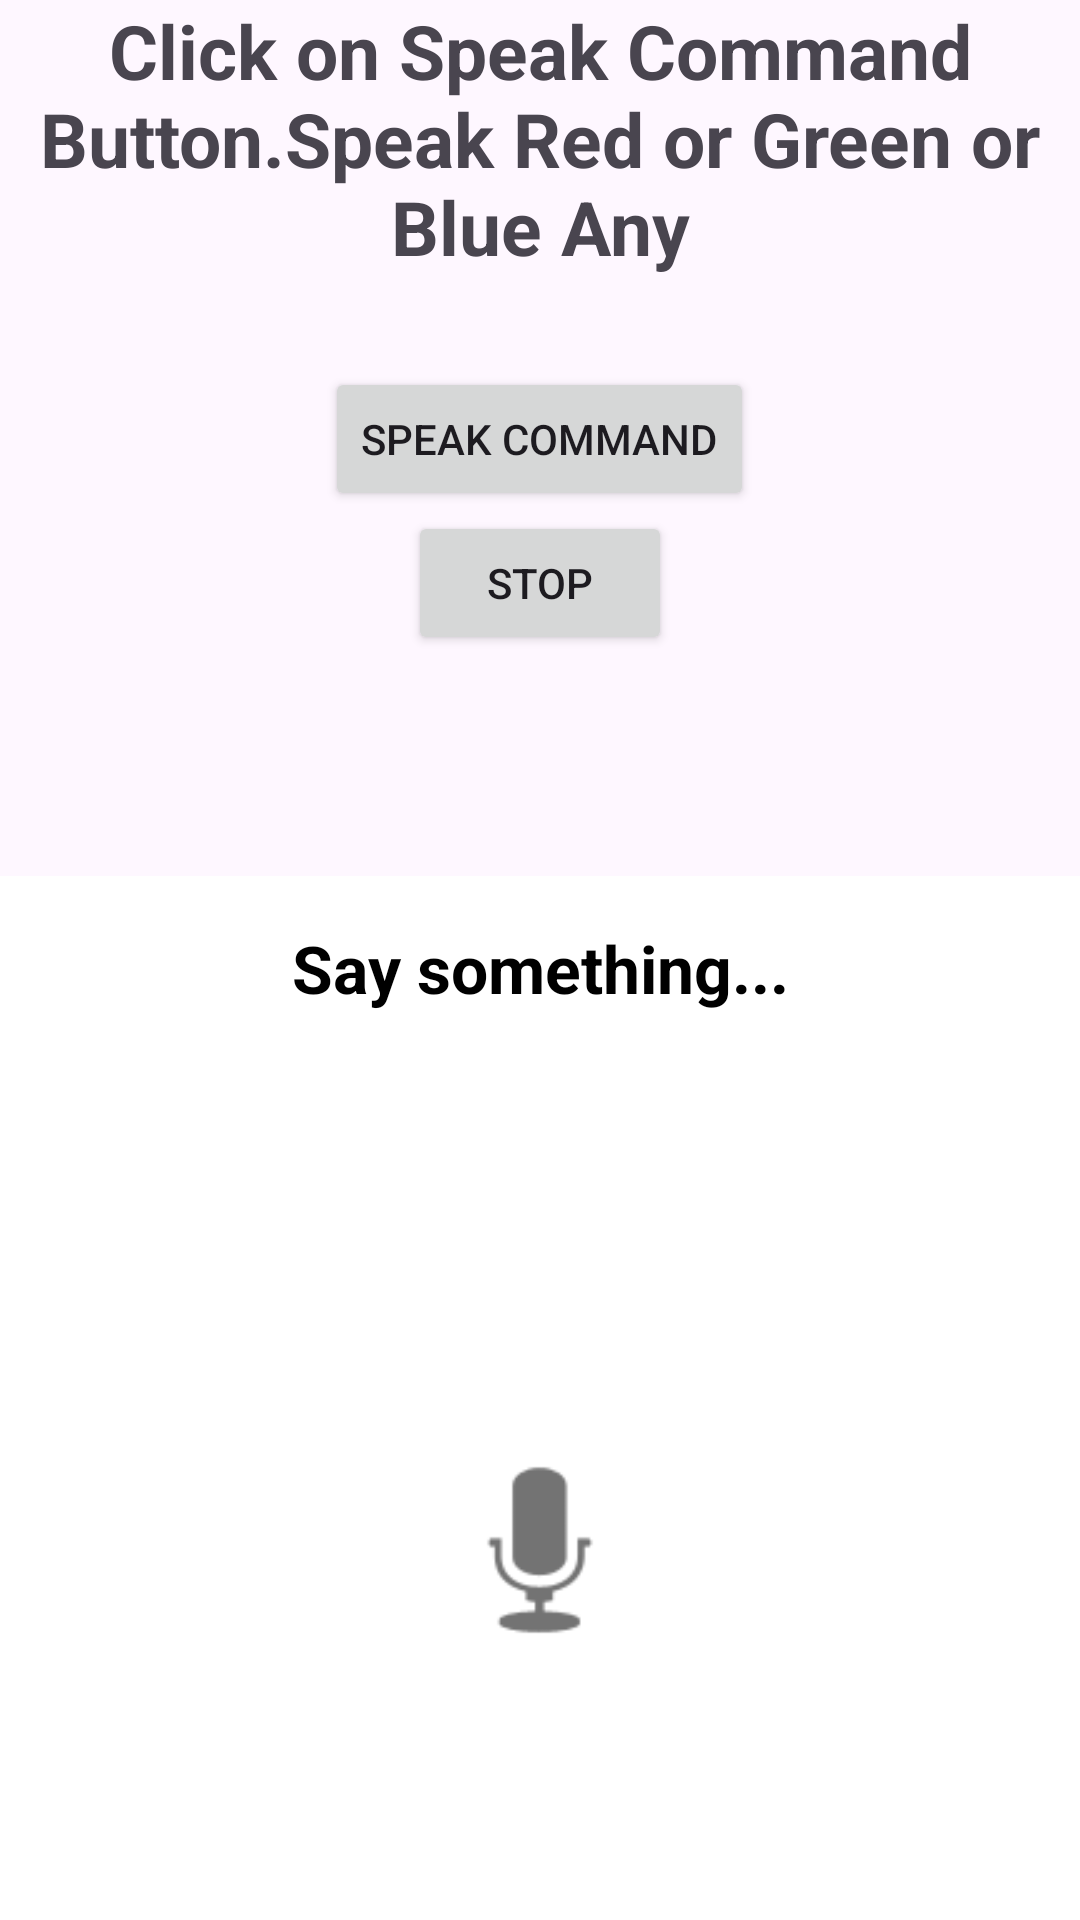

Screen size 1080px×1920px. Icon name, then its center in pixels as [x,y]:
Mic Button: [539,1550]
